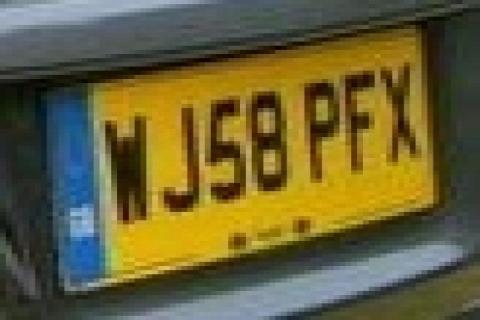LicensePlate: (39, 26, 450, 306)
